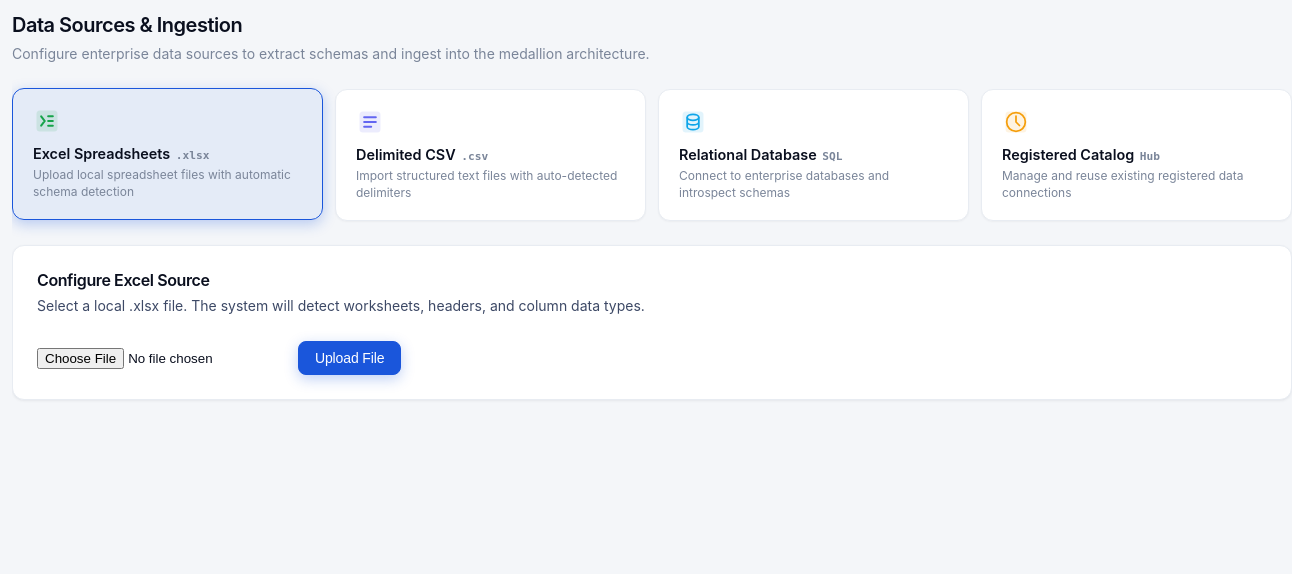
DataSourcesPage › switches to Catalog tab and displays active sources
The width and height of the screenshot is (1292, 574).
Click the tab "Registered Catalog": (1136, 155) [981,89,1291,221]
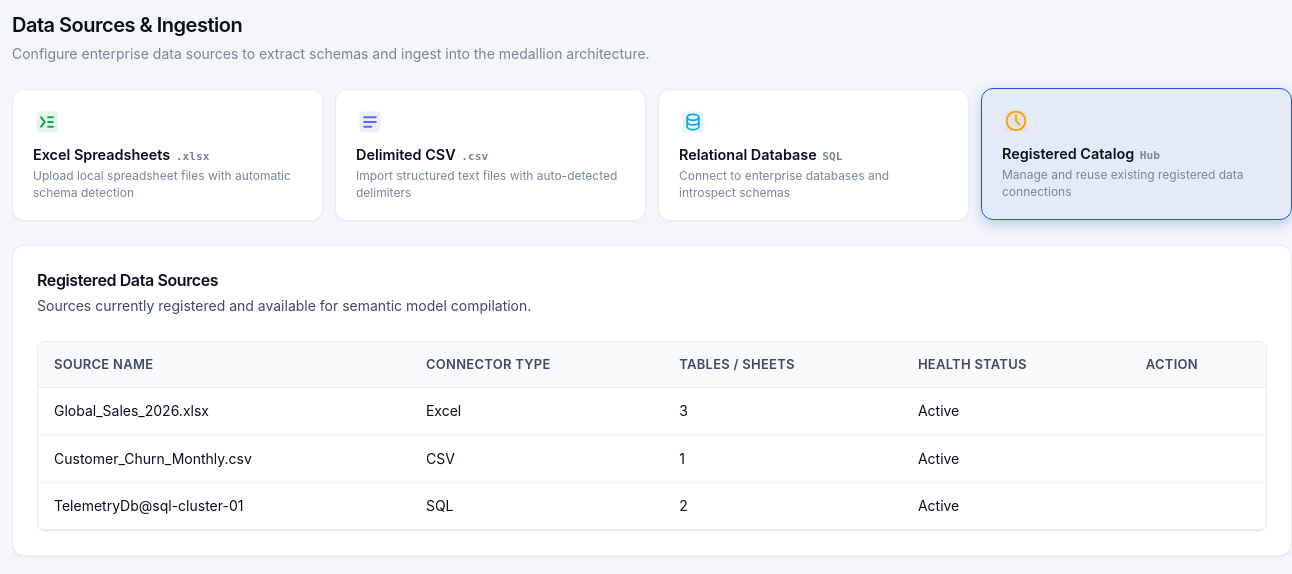
Result: the text "Global_Sales_2026.xlsx" is shown at [38,388,410,435]
Result: the text "Customer_Churn_Monthly.csv" is shown at [38,435,410,483]
Result: the text "TelemetryDb@sql-cluster-01" is shown at [38,483,410,530]
